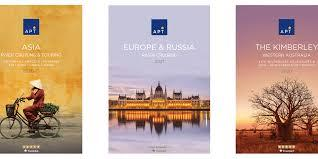paper: (0, 0, 318, 158), (109, 6, 211, 154), (237, 5, 318, 154), (0, 6, 81, 152)
